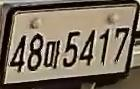1: (98, 27, 112, 66)
4: (81, 27, 98, 68), (11, 36, 26, 73)
5: (62, 28, 80, 70)
7: (113, 26, 130, 62)
8: (26, 31, 43, 71)
마: (44, 39, 62, 70)
